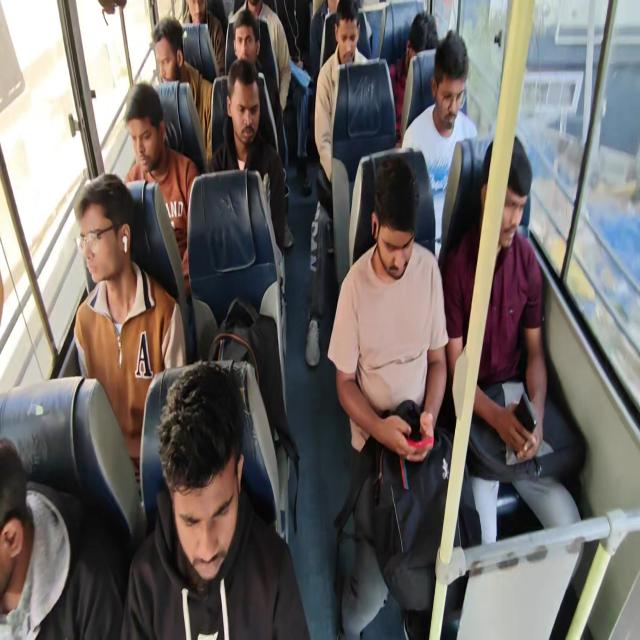person: (326, 153, 469, 638), (440, 133, 584, 549), (120, 359, 310, 639), (73, 173, 187, 498), (0, 436, 124, 639), (304, 0, 369, 366), (207, 297, 300, 537), (400, 29, 478, 254), (123, 82, 199, 298), (208, 58, 286, 252), (151, 16, 213, 160), (229, 0, 291, 114), (388, 11, 438, 141), (181, 0, 225, 76), (309, 0, 340, 78)
